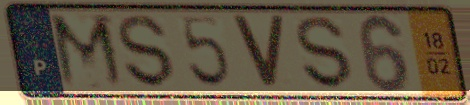5: (177, 14, 235, 90)
6: (356, 11, 411, 96)
M: (46, 11, 130, 92)
S: (293, 14, 356, 92), (115, 13, 178, 91)
V: (228, 13, 289, 93)
